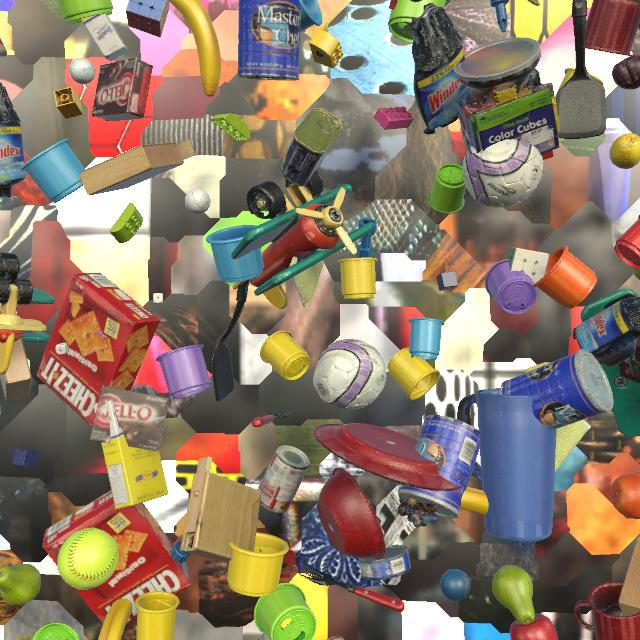ycb_002_master_chef_can: (500, 349, 613, 430), (398, 415, 480, 519), (237, 0, 301, 81)
ycb_003_cracker_box: (42, 490, 191, 627), (36, 273, 160, 427)
ycb_004_sugar_box: (93, 400, 169, 509), (80, 13, 129, 61)
ycb_005_tomato_soup_can: (257, 445, 310, 513), (327, 636, 344, 640)
ycb_007_tuna_fish_can: (358, 545, 411, 581)
ycb_008_pudding_box: (90, 386, 170, 451), (91, 58, 153, 122)
ycb_010_potted_meat_can: (280, 108, 343, 187), (257, 626, 284, 640), (630, 0, 640, 30)
ycb_011_banana: (168, 0, 221, 97), (98, 599, 133, 640), (460, 487, 489, 516)
ycb_013_apple: (510, 614, 558, 640)
ycb_014_lemon: (609, 133, 640, 169)
ycb_016_pear: (492, 565, 535, 624), (0, 563, 41, 605), (632, 268, 640, 280)
ycb_017_orange: (610, 474, 640, 519), (463, 50, 467, 54)
ycb_018_plum: (612, 55, 640, 90)
